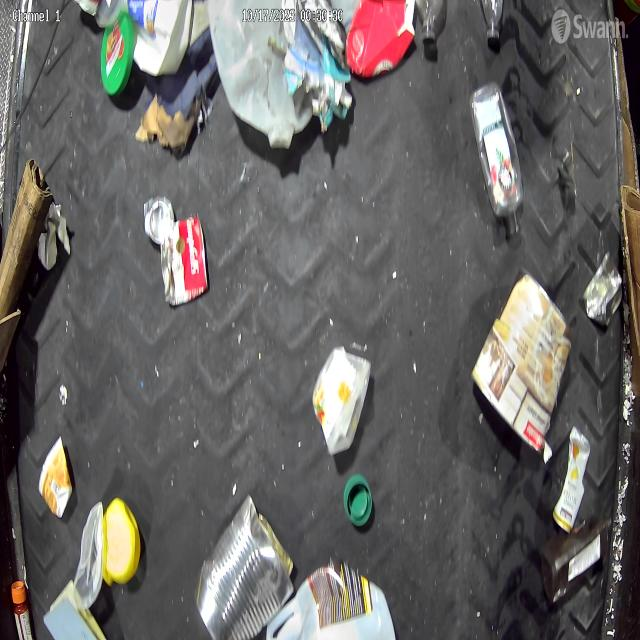can: (196, 497, 294, 640), (158, 212, 208, 307), (583, 255, 622, 329), (144, 196, 176, 249)
milk_jug: (203, 1, 298, 150), (267, 563, 397, 640)
plastic_bottle: (472, 82, 526, 231), (415, 0, 444, 44), (482, 0, 503, 43)
